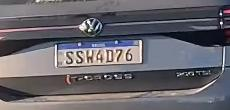Placa_mercosul_carro: (55, 39, 142, 69)
